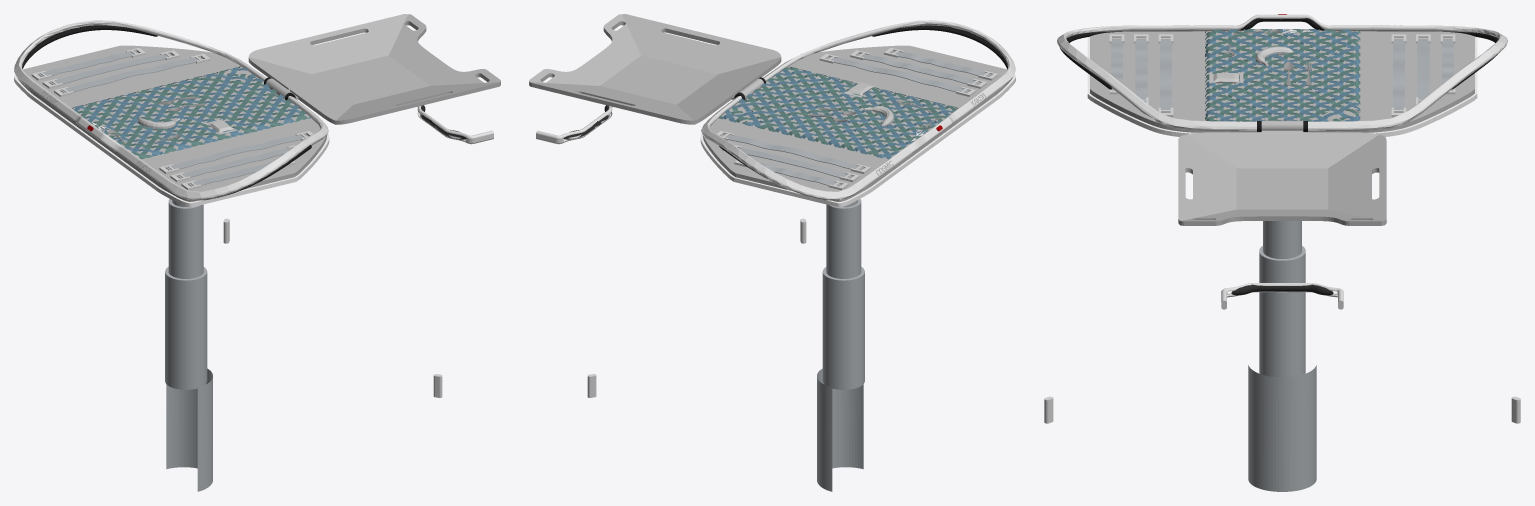
The model's file is cosmic-kaksh-extended.glb.
3 renders of one model, left to right at view 1: azimuth 30°, elevation 25°; view 2: azimuth 150°, elevation 25°; view 3: azimuth 270°, elevation 25°, orthographic. The views are drawn at different scales.
Parts seen in each view (by area): view 1: material-5, material--1, material-0, material-9, material-8, material-6, material-4; view 2: material-5, material--1, material-0, material-9, material-8, material-6, material-4; view 3: material-5, material--1, material-0, material-9, material-8, material-6, material-4, material-1.
Part boxes in pixels (x1,y1,x2,y2): material-5: (17, 14, 500, 201); material--1: (38, 51, 307, 491); material-0: (14, 20, 493, 397); material-9: (72, 67, 310, 156); material-8: (77, 66, 308, 159); material-6: (14, 74, 329, 207); material-4: (22, 25, 311, 199); material-5: (529, 14, 1012, 201); material--1: (722, 51, 991, 491); material-0: (536, 20, 1015, 397); material-9: (722, 66, 953, 159); material-8: (719, 67, 958, 155); material-6: (700, 74, 1015, 207); material-4: (719, 25, 1007, 182); material-5: (1090, 29, 1474, 225); material--1: (1111, 38, 1453, 491); material-0: (1044, 14, 1520, 423); material-9: (1205, 29, 1360, 121); material-8: (1205, 29, 1360, 121); material-6: (1087, 36, 1477, 136); material-4: (1060, 18, 1498, 131); material-1: (1231, 284, 1333, 295).
Bounding box in the file's own units: 1.96 × 1.94 × 1.94.
